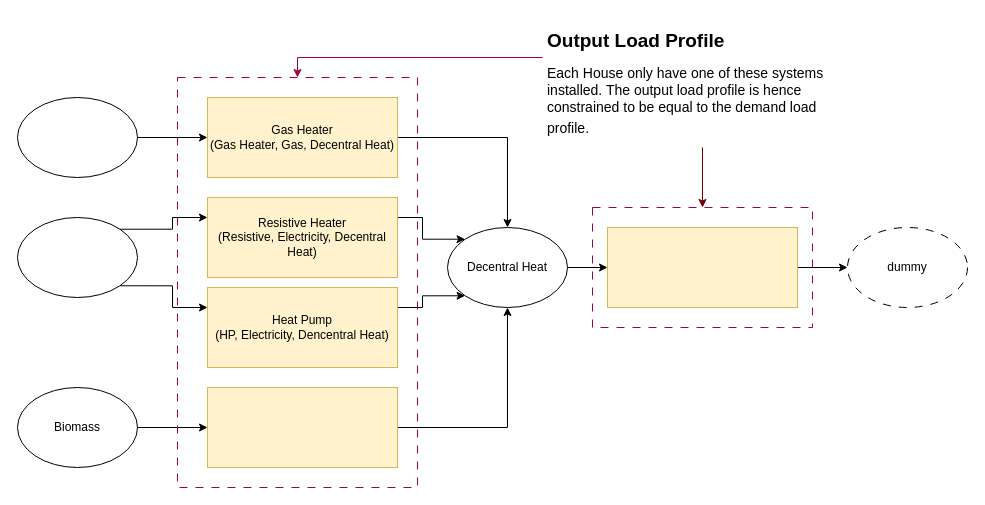
Some shapes in this 985 by 505 pixel diagram are drawn without their labels. The box of each missing label's shape, as (x1, y1, x2, y2) in pixels:
Biomass Heater (Biomass Heater, Biomass, Decentral Heat): (206, 386, 398, 468)
Demand Heat (Demand Heat, Decentral Heat, Dummy): (606, 226, 798, 308)
Electricity: (16, 216, 138, 298)
Gas: (16, 96, 138, 178)
